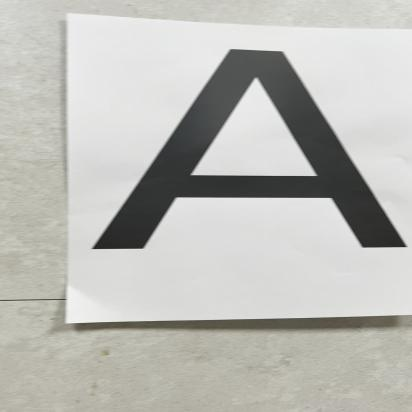seat: (56, 39, 412, 285)
